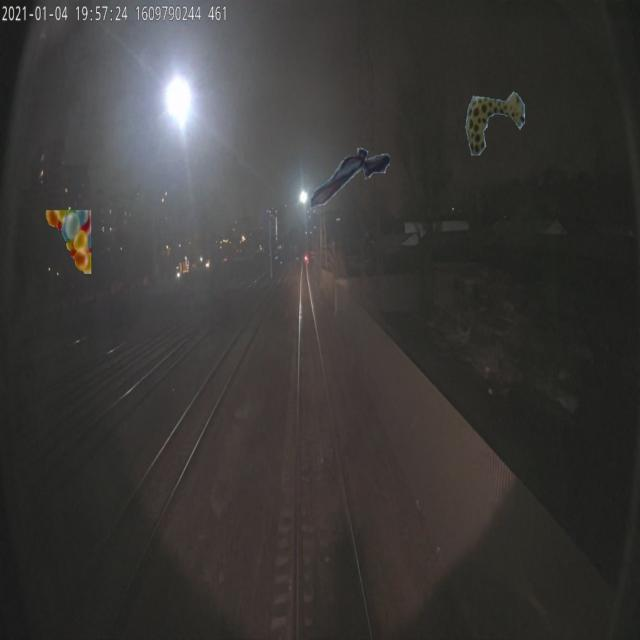balloon: (46, 210, 91, 274)
floating object: (309, 147, 391, 210), (465, 91, 525, 156)
